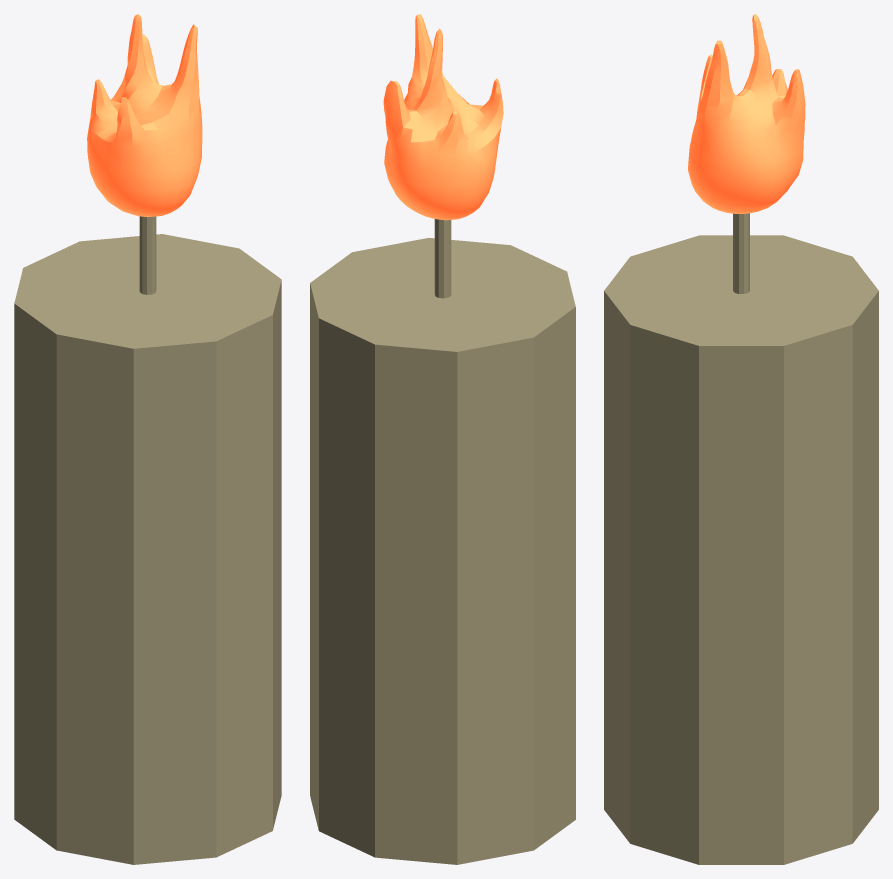
Rendered from FL_Candle 4.fbx.
The picture shows the model from 3 angles, left to right: view 1: azimuth 30°, elevation 25°; view 2: azimuth 150°, elevation 25°; view 3: azimuth 270°, elevation 25°; orthographic projection.
Parts seen in each view (by area): view 1: Candle 1.006; view 2: Candle 1.006; view 3: Candle 1.006.
Boxes of the visible parts, x1,y1,x2,y2 form: Candle 1.006: [14, 14, 281, 864]; Candle 1.006: [310, 14, 575, 864]; Candle 1.006: [604, 14, 878, 864].
Size of the model in its own units: 22.83 by 76.51 by 24.
